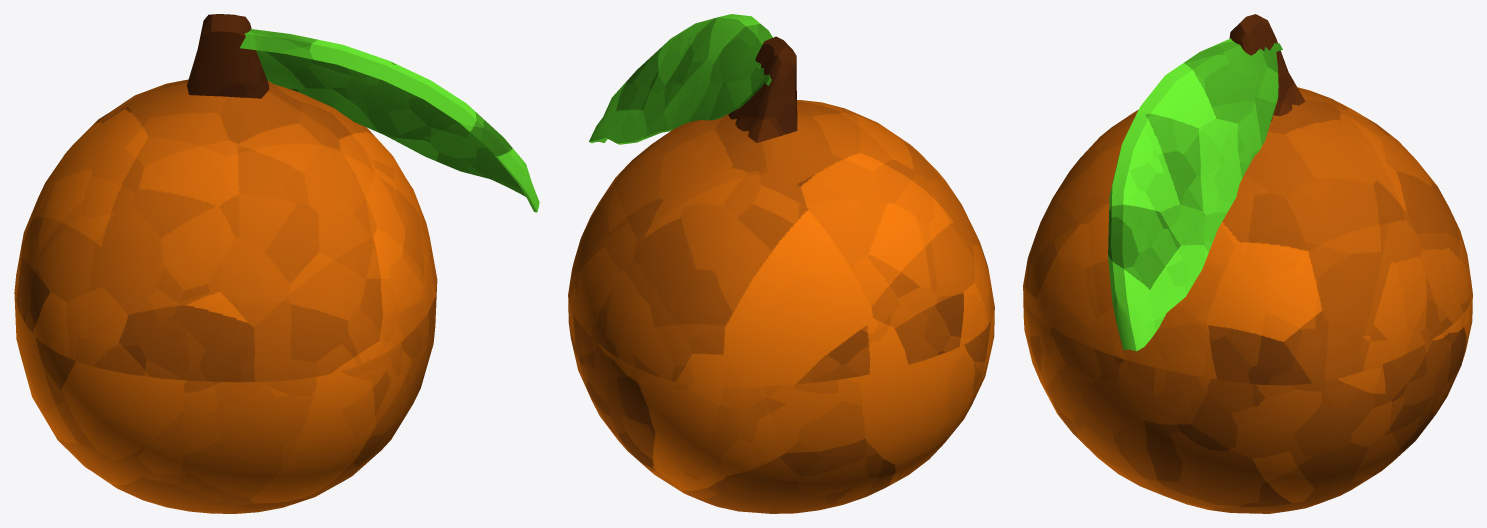
File: Orange.fbx
3 views of the same model, side by side, from view 1: azimuth 30°, elevation 25°; view 2: azimuth 150°, elevation 25°; view 3: azimuth 270°, elevation 25° (orthographic). The views are drawn at different scales.
Visible parts, largest first — view 1: Plane; view 2: Plane; view 3: Plane.
Boxes of the visible parts, bbox=[...] form: Plane: bbox=[14, 14, 539, 513]; Plane: bbox=[568, 14, 994, 513]; Plane: bbox=[1023, 14, 1472, 513].
Size of the model in its own units: 78.15 by 78.72 by 67.94.
